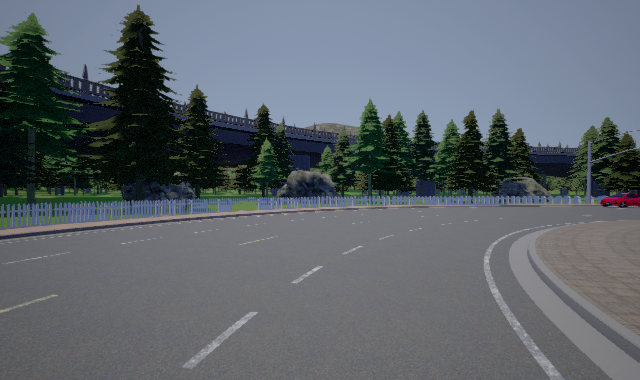traffic_light: (591, 177, 594, 184)
vehicle: (600, 193, 640, 208)
